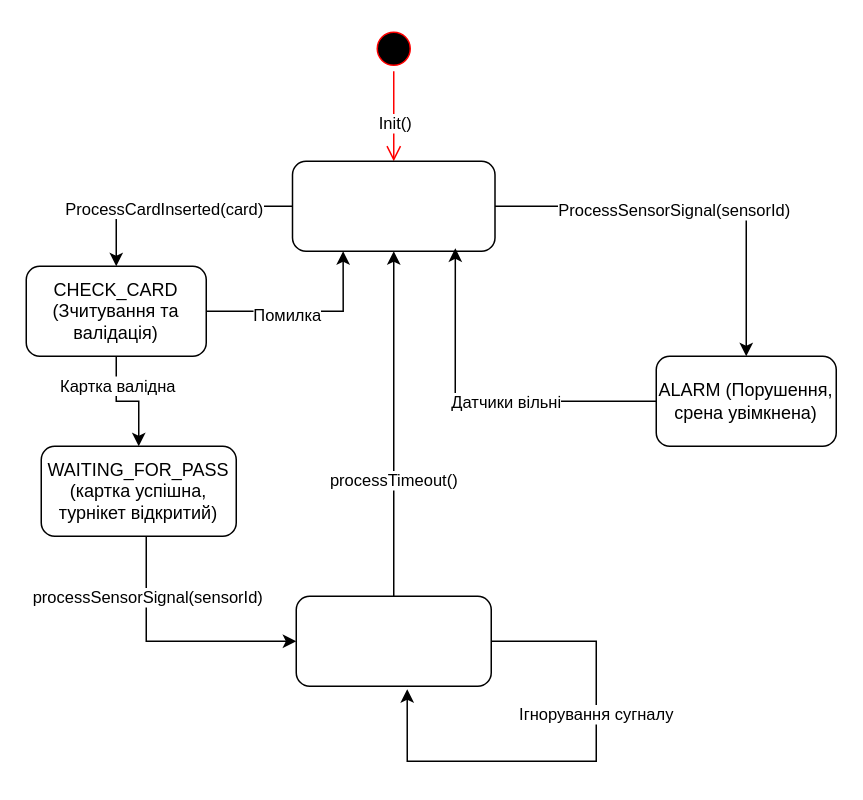
The diagram is 863 pixels wide and 800 high, and some of its shapes have lost their labels. The shapes that lost their labels are listed below. From the top down, each one's centre as x and y in pixels, then its label:
At (x=393, y=205): "STOP (початкой стан, прохід закритий)".
At (x=393, y=640): "PASSING (пасажир у зоні датчиків, відлік 5 сек.)".
